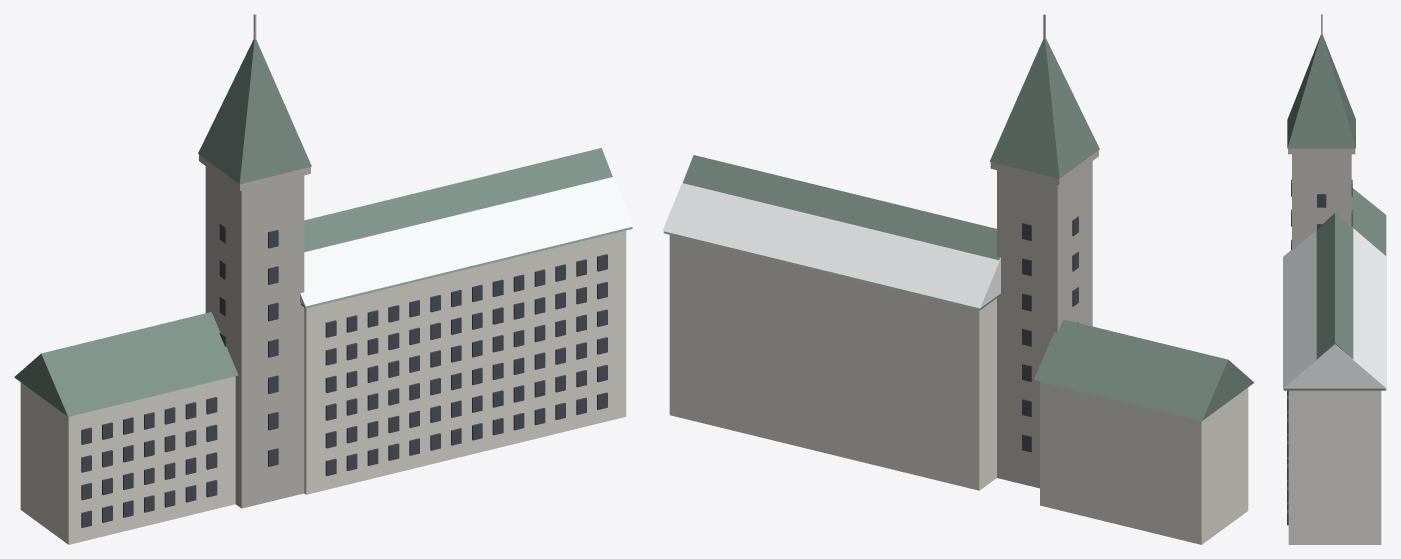
Rendered from sunnybar.glb.
The picture shows the model from 3 angles, left to right: view 1: azimuth 30°, elevation 25°; view 2: azimuth 150°, elevation 25°; view 3: azimuth 270°, elevation 25°; orthographic projection. The views are drawn at different scales.
Parts seen in each view (by area): view 1: palace; view 2: palace; view 3: palace.
Boxes of the visible parts, x1=… form: palace: x1=14, y1=14, x2=633, y2=544; palace: x1=662, y1=14, x2=1254, y2=544; palace: x1=1283, y1=14, x2=1386, y2=544.
Bounding box in the file's own units: 80.1 × 65 × 15.7.
